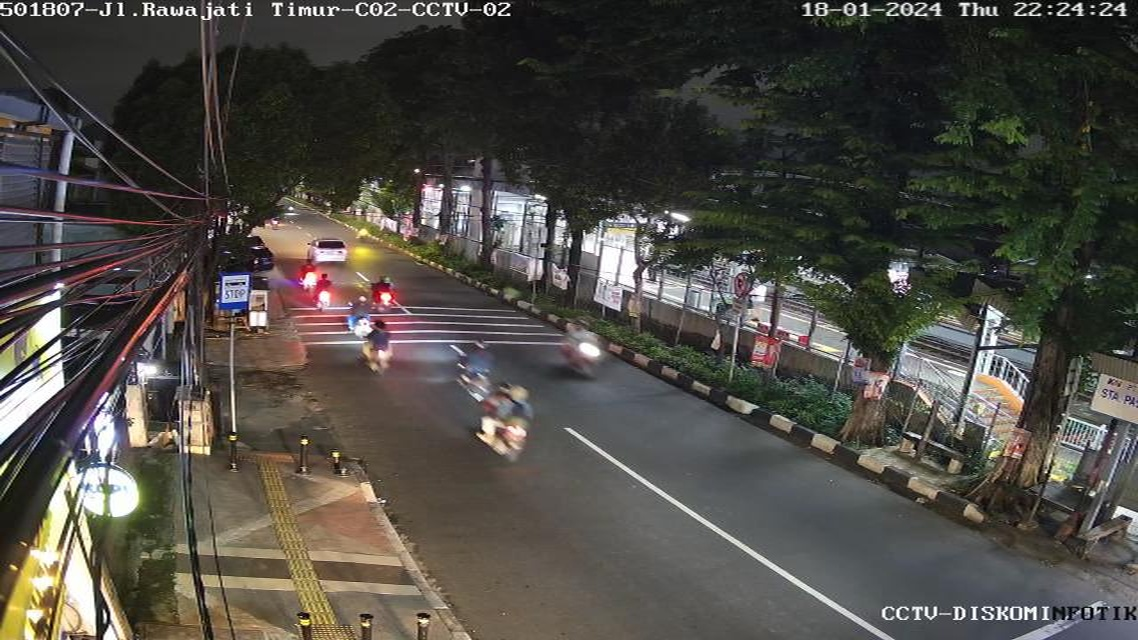Gerobak: (251, 275, 274, 331)
